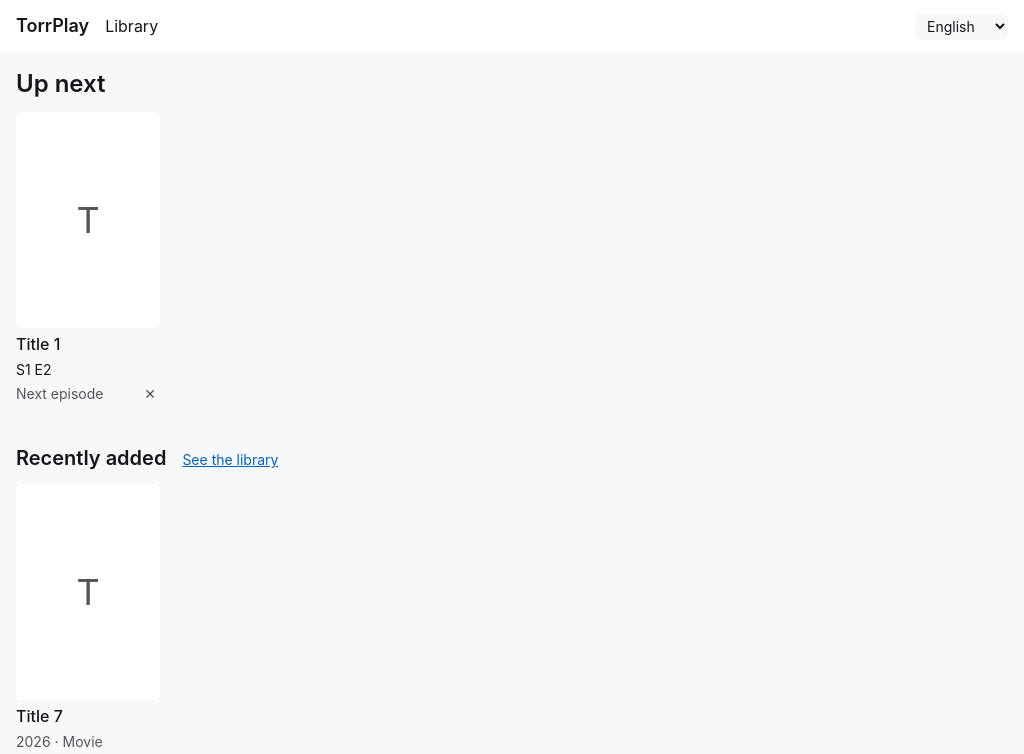
Test: switches to Russian from the header and remembers it
Expected: the heading "Up next" is shown, 16,69 -> 106,98
Select "Русский" in the dropdown named "Language" at (962, 26), box 915,12 -> 1008,40
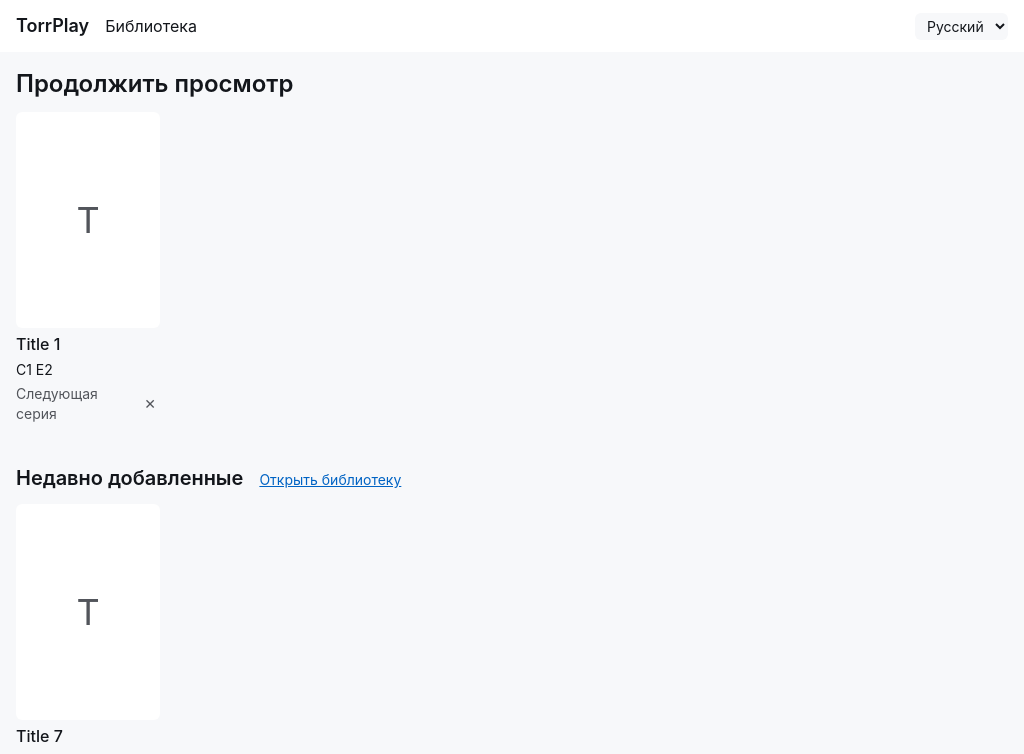
Result: the heading "Продолжить просмотр" is shown at 16,69 -> 293,98
Result: the text "С1 Е2" is shown at 16,361 -> 53,378
Result: the text "Следующая серия" is shown at 16,385 -> 98,422
